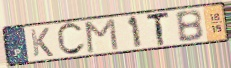1: (126, 15, 144, 50)
B: (174, 8, 206, 44)
C: (55, 22, 87, 57)
K: (29, 26, 55, 59)
M: (84, 17, 120, 55)
T: (145, 10, 171, 47)
